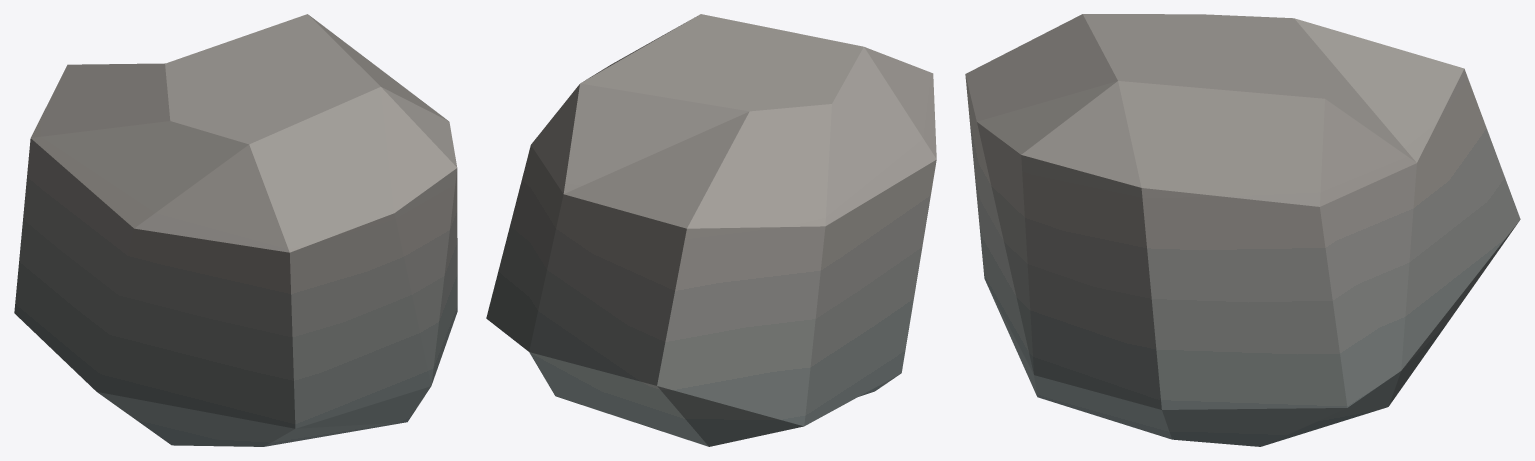
Rendered from Rock.fbx.
3 views of the same model, side by side, from view 1: azimuth 30°, elevation 25°; view 2: azimuth 150°, elevation 25°; view 3: azimuth 270°, elevation 25° (orthographic). The views are drawn at different scales.
Parts seen in each view (by area): view 1: Rock; view 2: Rock; view 3: Rock.
Boxes of the visible parts, x1=… form: Rock: x1=14, y1=14, x2=457, y2=446; Rock: x1=486, y1=14, x2=936, y2=446; Rock: x1=965, y1=14, x2=1520, y2=446.
Size of the model in its own units: 1.32 by 1.15 by 1.7.
